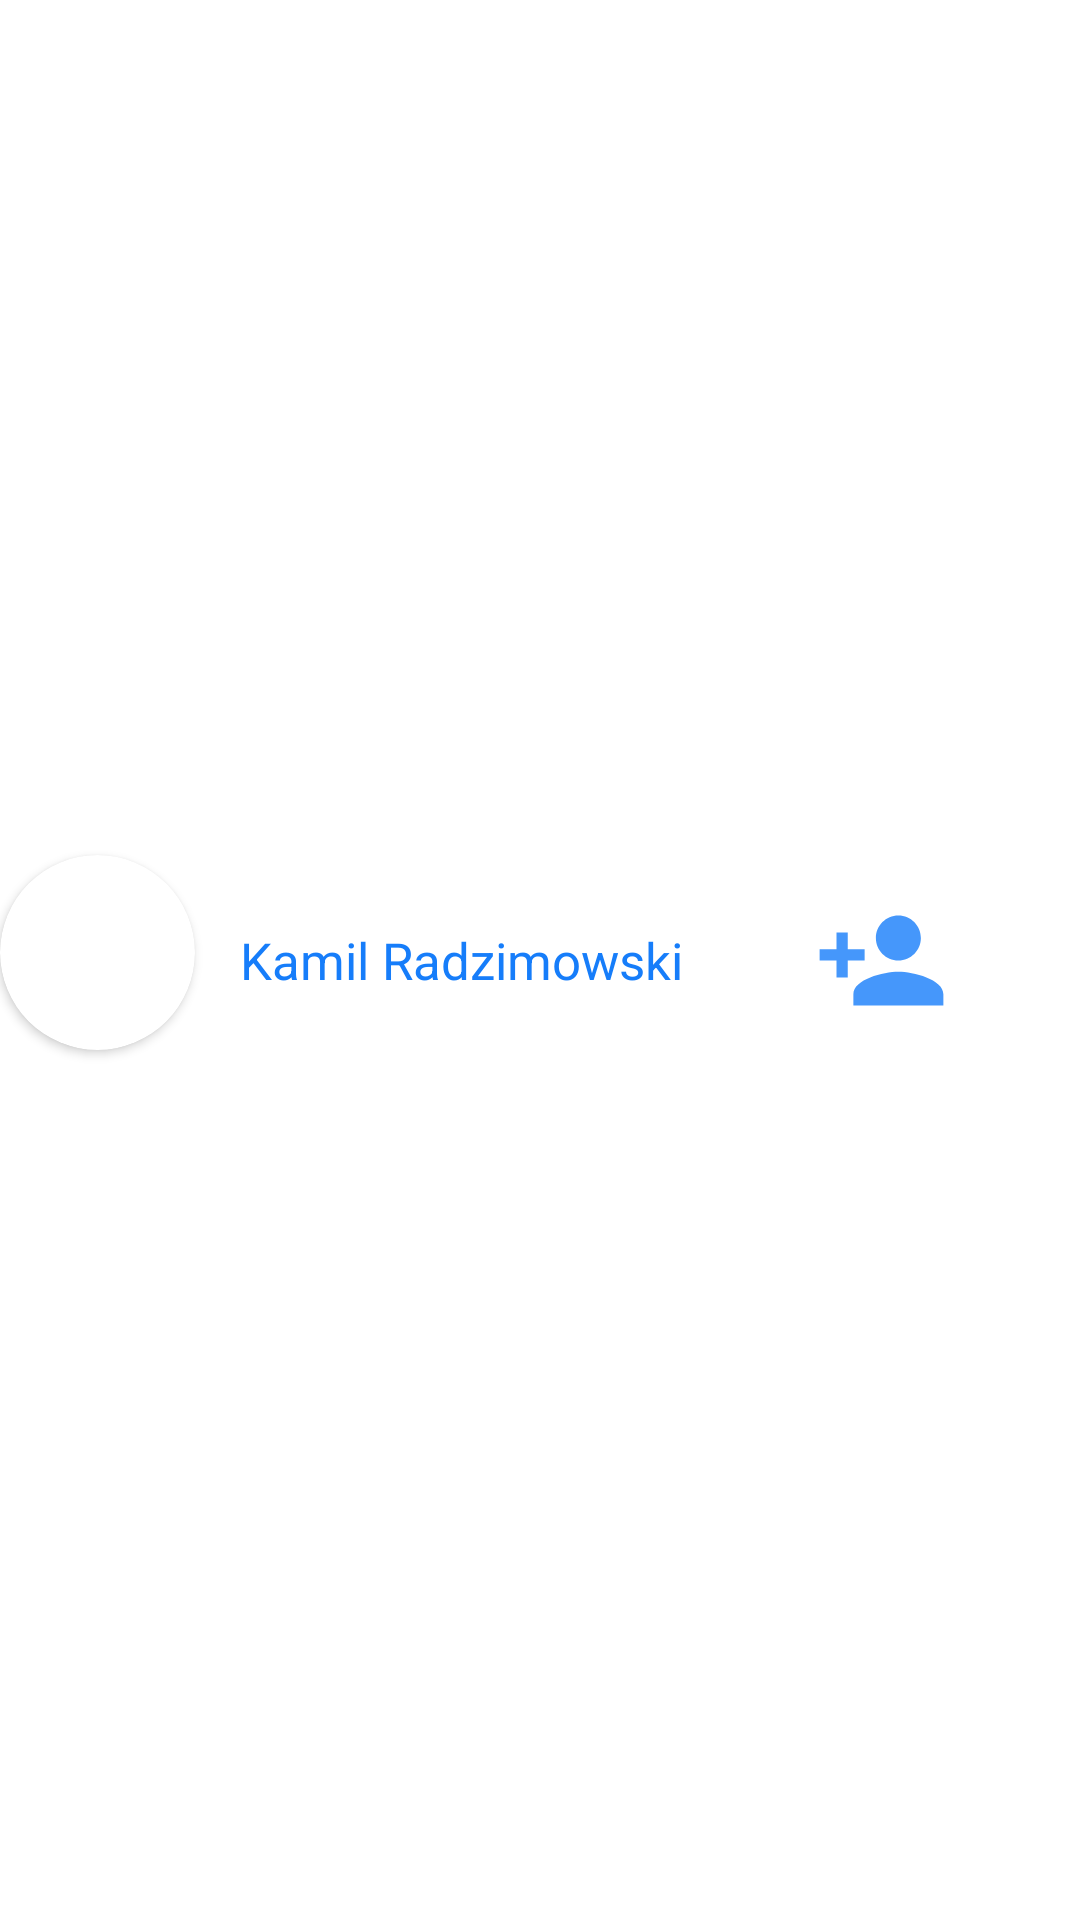

Icons on this 1080×1920 Android screen, each with the point to tap as (x,y):
friend requests: (881,960)
